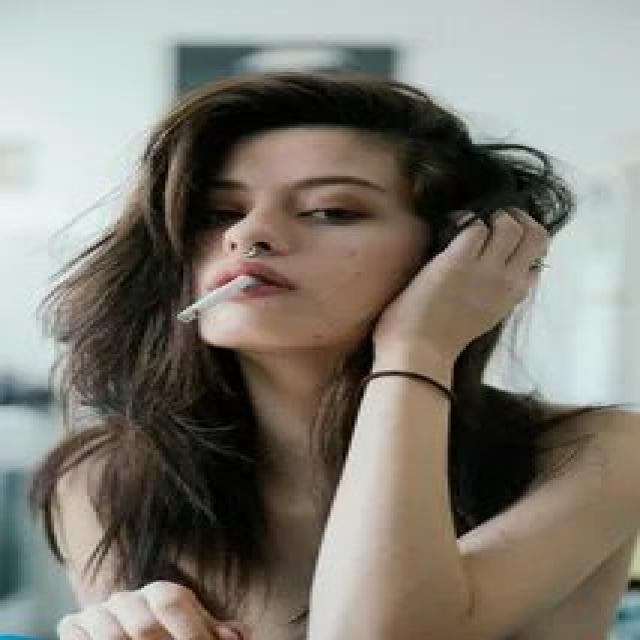smoke: (172, 268, 268, 330)
